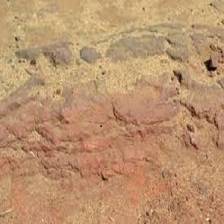sandy_soil: (2, 37, 212, 219)
